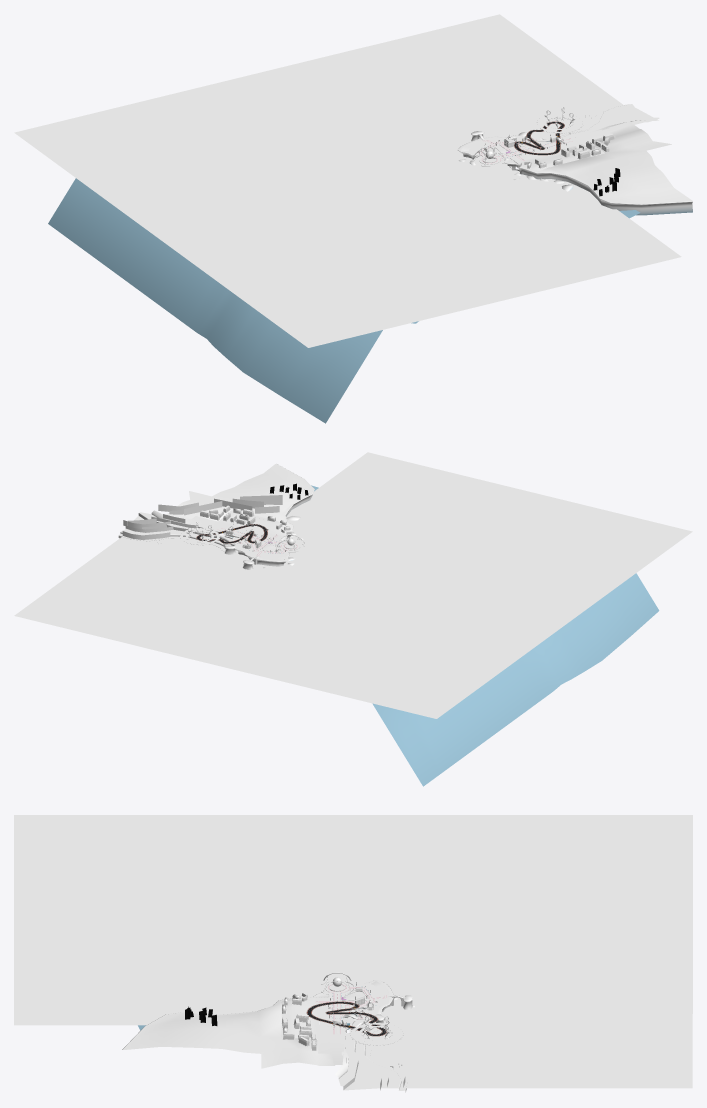
The picture shows the model from 3 angles, top to bottom: view 1: azimuth 30°, elevation 25°; view 2: azimuth 150°, elevation 25°; view 3: azimuth 270°, elevation 25°; orthographic projection. The views are drawn at different scales.
Visible parts, largest first — view 1: candela_city_world_architecture; view 2: candela_city_world_architecture; view 3: candela_city_world_architecture, visual_road.
Part boxes in pixels (x1,y1,x2,y2): candela_city_world_architecture: (14,14,692,423); candela_city_world_architecture: (14,452,692,786); candela_city_world_architecture: (14,815,692,1092); visual_road: (307,1002,385,1035).
Bounding box in the file's own units: 3007 × 653 × 3094.
